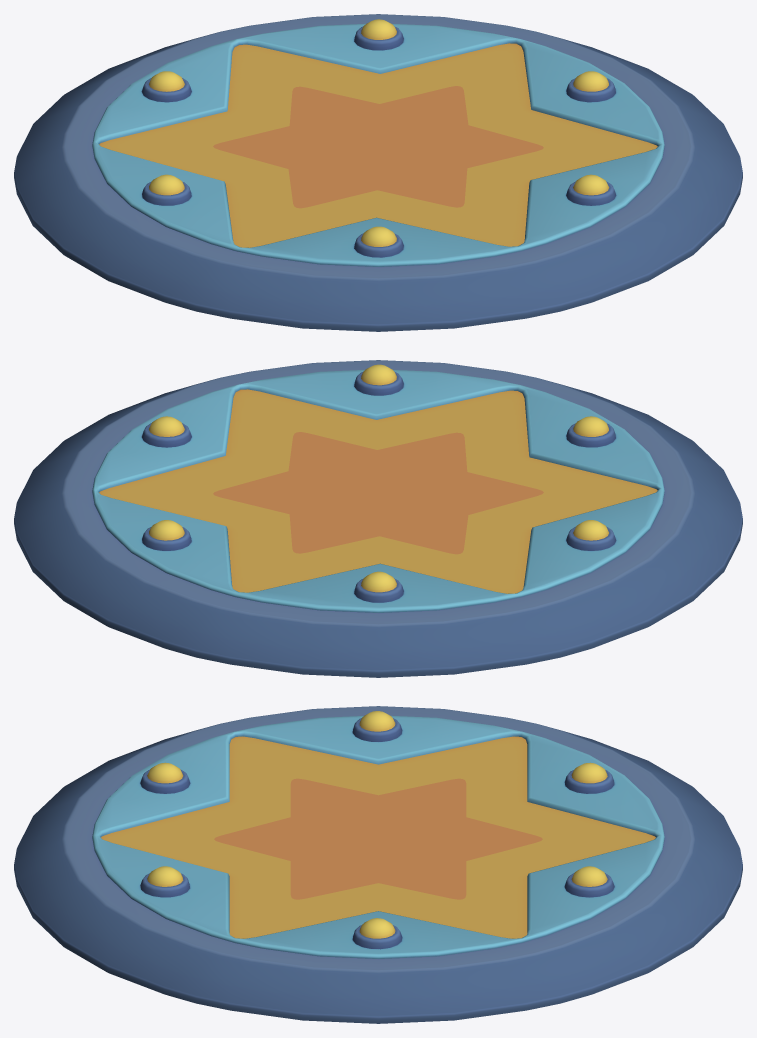
The model's file is Spawner.fbx.
3 views of the same model, one above another, from view 1: azimuth 30°, elevation 25°; view 2: azimuth 150°, elevation 25°; view 3: azimuth 270°, elevation 25° (orthographic).
Parts seen in each view (by area): view 1: Spawner; view 2: Spawner; view 3: Spawner.
Boxes of the visible parts, x1,y1,x2,y2 form: Spawner: (14, 14, 742, 331); Spawner: (14, 360, 742, 677); Spawner: (14, 706, 742, 1023).
Size of the model in its own units: 792 by 64.28 by 794.
